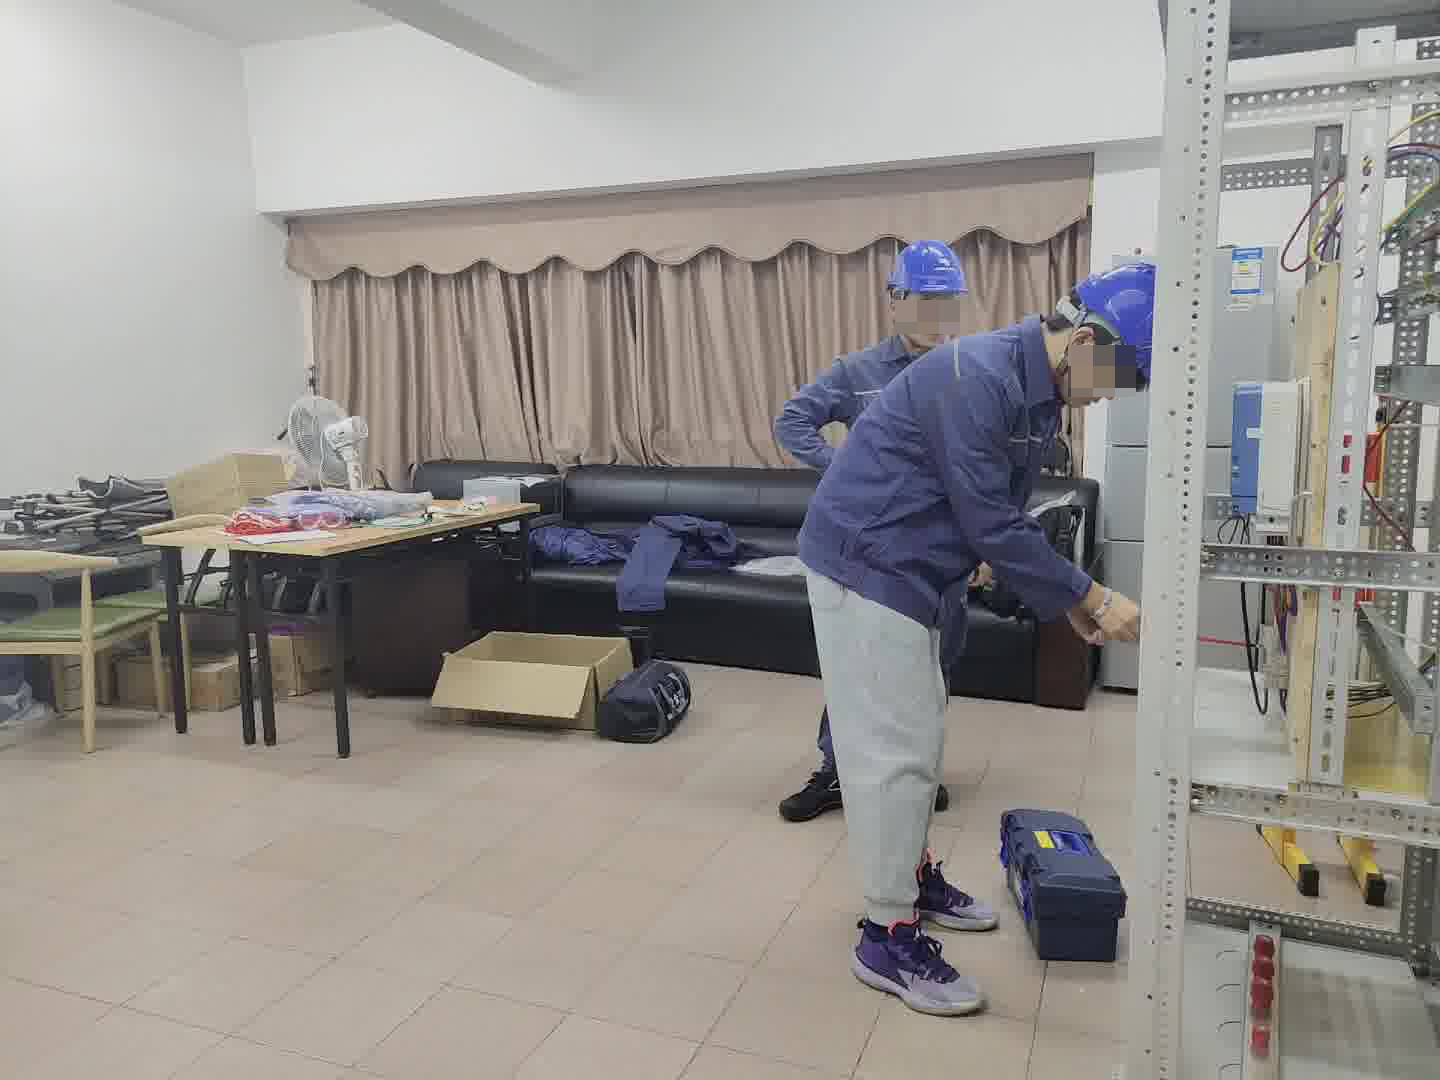downcloth: (801, 565, 949, 936)
halt: (1052, 263, 1154, 416), (884, 236, 972, 344)
hand: (1071, 588, 1142, 651)
inear: (1045, 306, 1126, 398), (882, 293, 913, 337)
person: (770, 230, 1143, 969)
upsuit: (783, 313, 1089, 609)
